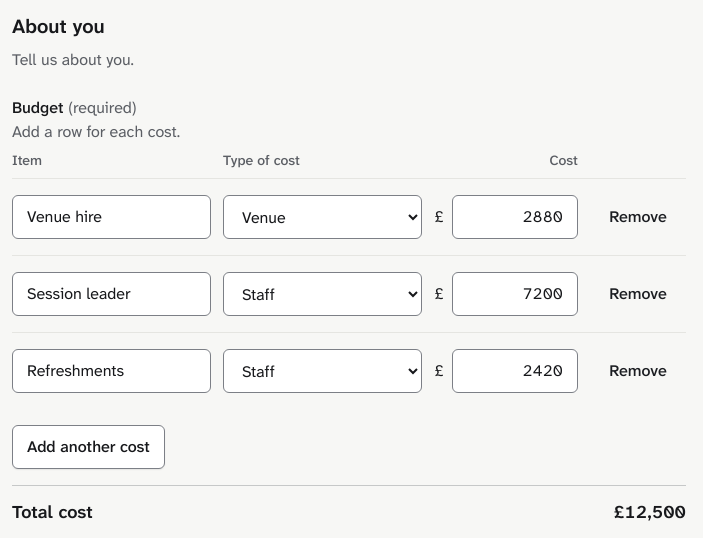
Test case: TableQuestion › rows › offers no way to remove a row that the table needs, and moves focus to the add button
Click the button named "Remove cost 3" at point(638, 371), box [590, 349, 686, 393]
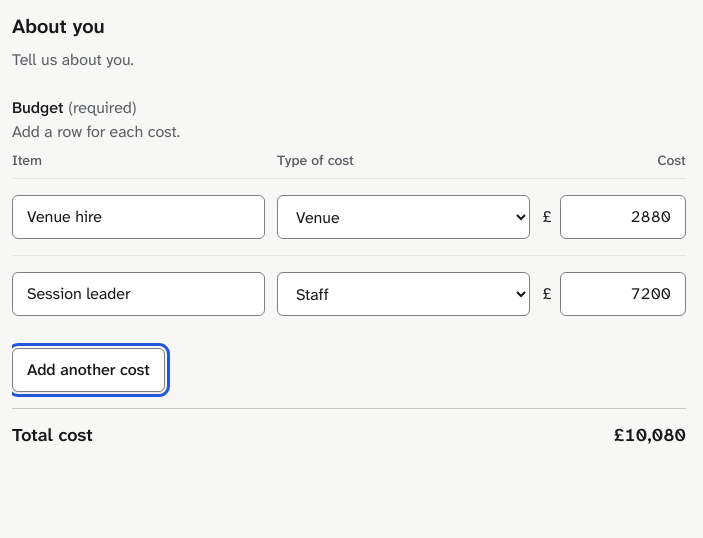
Now the button "Remove" is gone
